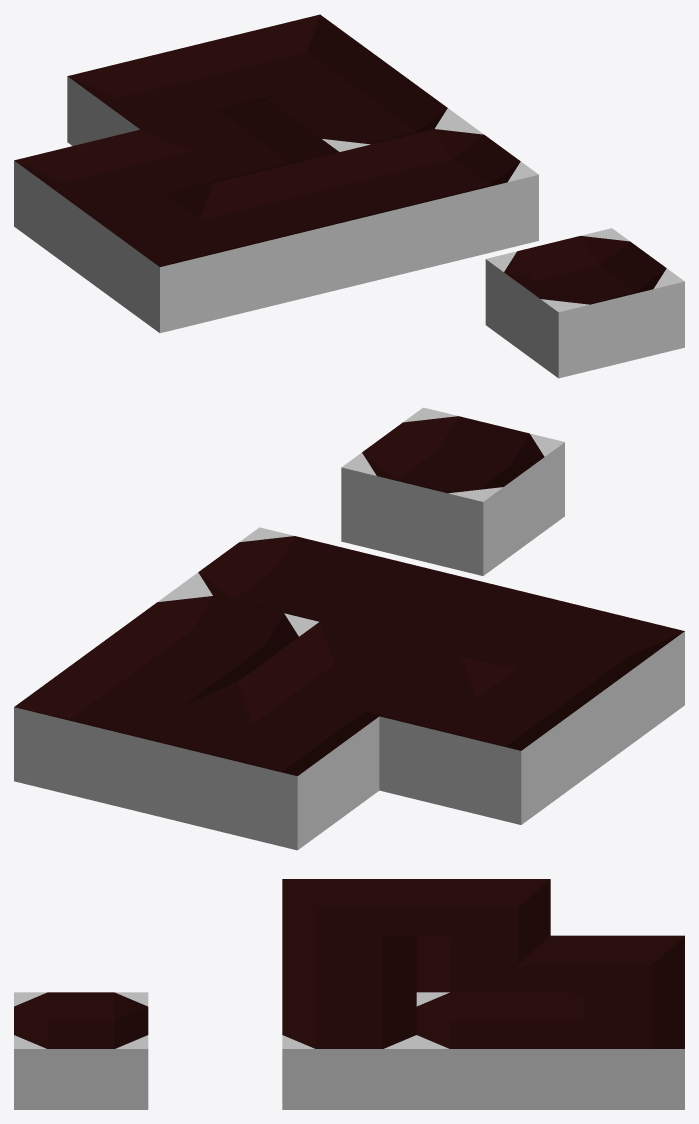
File: 36s_path.obj
3 views of the same model, one above another, from view 1: azimuth 30°, elevation 25°; view 2: azimuth 150°, elevation 25°; view 3: azimuth 270°, elevation 25° (orthographic). The views are drawn at different scales.
Visible parts, largest first — view 1: hole.2.0_Cube.222, corner.0.2_corner.1093, ending.2.2_ending.441, through.1.2_through.229, corner.0.3_corner.1094, corner.1.4_corner.1096, corner.2.4_corner.1097, corner.1.3_corner.1095, ending.2.3_ending.442; view 2: hole.2.0_Cube.222, corner.1.4_corner.1096, corner.0.3_corner.1094, corner.2.4_corner.1097, corner.0.2_corner.1093, corner.1.3_corner.1095, ending.2.3_ending.442, ending.2.2_ending.441, through.1.2_through.229; view 3: hole.2.0_Cube.222, ending.2.3_ending.442, corner.2.4_corner.1097, ending.2.2_ending.441, corner.1.4_corner.1096, corner.0.2_corner.1093, corner.0.3_corner.1094, through.1.2_through.229, corner.1.3_corner.1095.
Boxes of the visible parts, left/top/right/bottom form: hole.2.0_Cube.222: left=485, top=228, right=684, bottom=378; corner.0.2_corner.1093: left=87, top=183, right=286, bottom=333; ending.2.2_ending.441: left=340, top=121, right=538, bottom=271; through.1.2_through.229: left=213, top=152, right=412, bottom=302; corner.0.3_corner.1094: left=14, top=129, right=212, bottom=279; corner.1.4_corner.1096: left=67, top=45, right=265, bottom=145; corner.2.4_corner.1097: left=194, top=14, right=392, bottom=107; corner.1.3_corner.1095: left=141, top=99, right=339, bottom=185; ending.2.3_ending.442: left=267, top=68, right=465, bottom=151; hole.2.0_Cube.222: left=341, top=407, right=564, bottom=575; corner.1.4_corner.1096: left=155, top=682, right=379, bottom=850; corner.0.3_corner.1094: left=379, top=656, right=602, bottom=824; corner.2.4_corner.1097: left=14, top=647, right=237, bottom=815; corner.0.2_corner.1093: left=461, top=596, right=684, bottom=764; corner.1.3_corner.1095: left=238, top=622, right=460, bottom=725; ending.2.3_ending.442: left=96, top=587, right=318, bottom=691; ending.2.2_ending.441: left=178, top=527, right=400, bottom=625; through.1.2_through.229: left=322, top=562, right=542, bottom=659; hole.2.0_Cube.222: left=14, top=992, right=148, bottom=1109; ending.2.3_ending.442: left=416, top=992, right=550, bottom=1109; corner.2.4_corner.1097: left=550, top=992, right=684, bottom=1109; ending.2.2_ending.441: left=282, top=992, right=416, bottom=1109; corner.1.4_corner.1096: left=550, top=935, right=684, bottom=1007; corner.0.2_corner.1093: left=282, top=879, right=416, bottom=950; corner.0.3_corner.1094: left=416, top=879, right=550, bottom=950; through.1.2_through.229: left=282, top=936, right=416, bottom=1007; corner.1.3_corner.1095: left=416, top=936, right=550, bottom=992.
Bounding box in the file's own units: 6 × 1 × 10.
